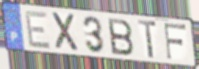3: (82, 15, 104, 54)
B: (106, 17, 135, 57)
E: (23, 10, 53, 51)
F: (163, 22, 188, 62)
T: (137, 19, 158, 61)
X: (51, 11, 81, 54)
